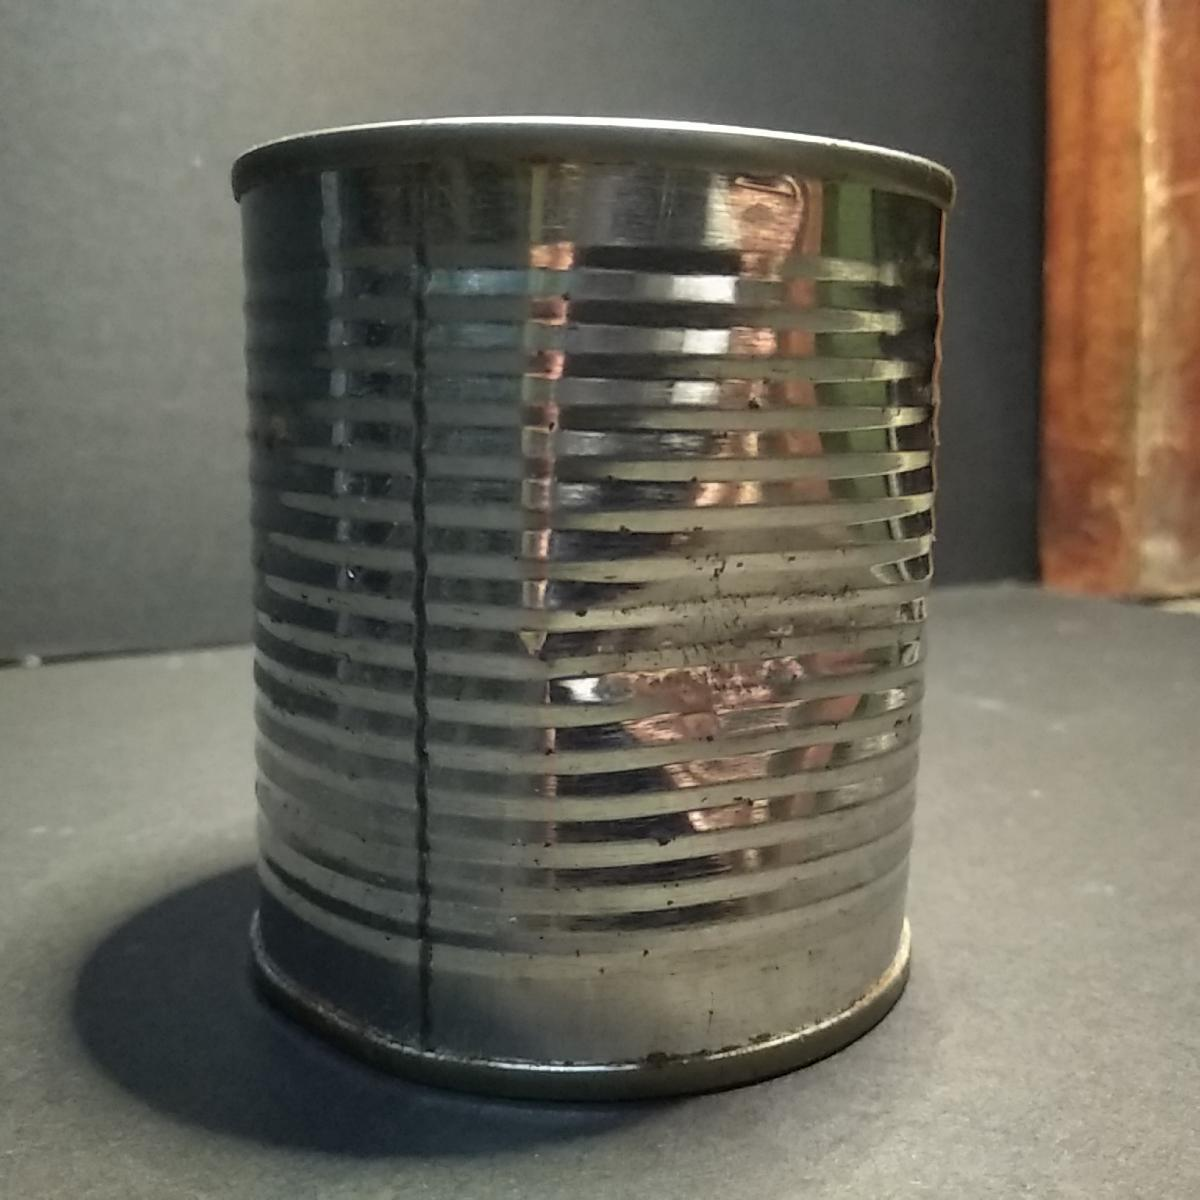Dented: (208, 104, 962, 1118)
